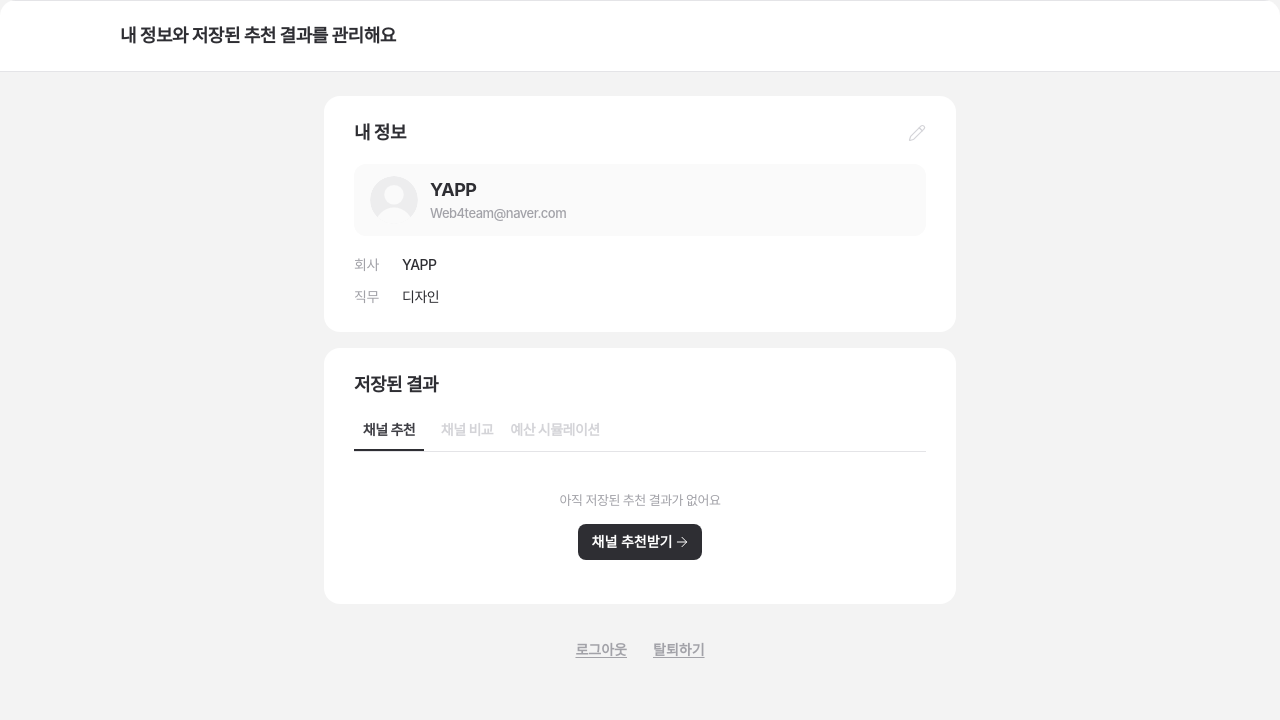
it: MyPage › opens and closes the logout confirmation modal
This screenshot has width=1280, height=720.
Click the button "로그아웃" at (601,650), box [576,640,627,660]
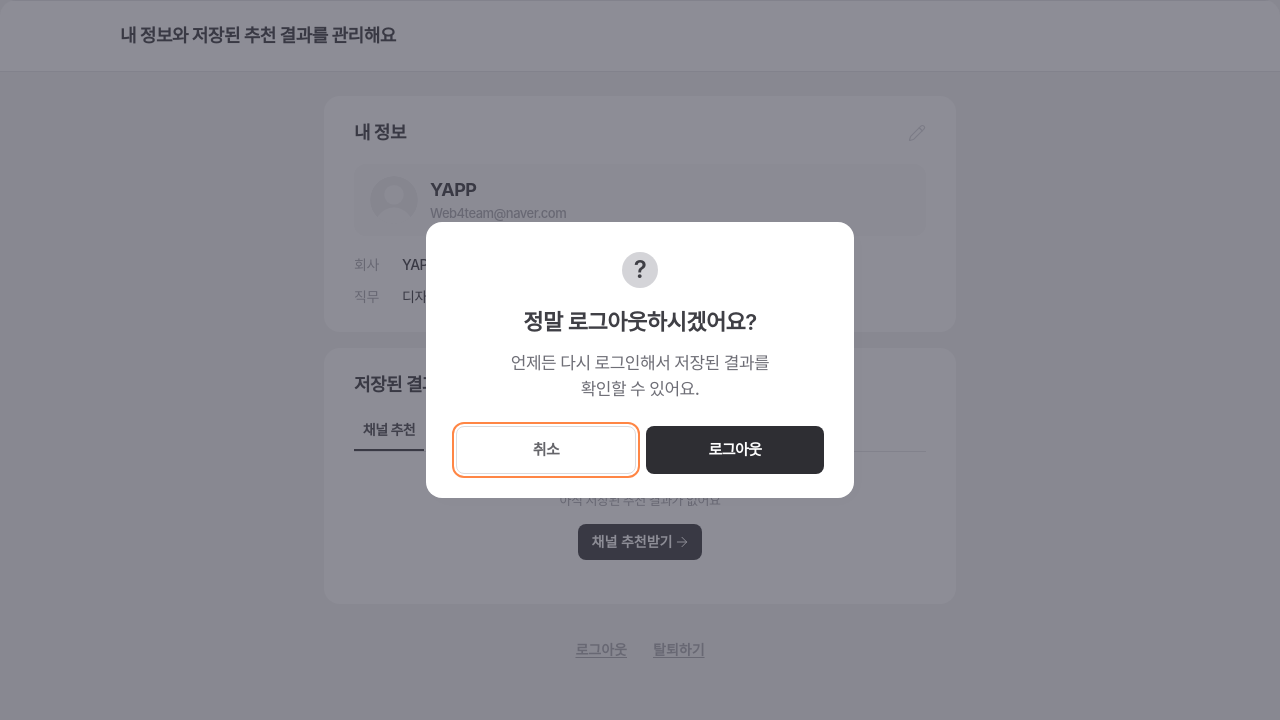
Expected: the dialog "정말 로그아웃하시겠어요?" is shown, [426,222,854,498]
Expected: the dialog "정말 로그아웃하시겠어요?" shows "언제든 다시 로그인해서 저장된 결과를", [511,353,769,373]
Click the button "취소" at (546,450), box [456,426,636,474]
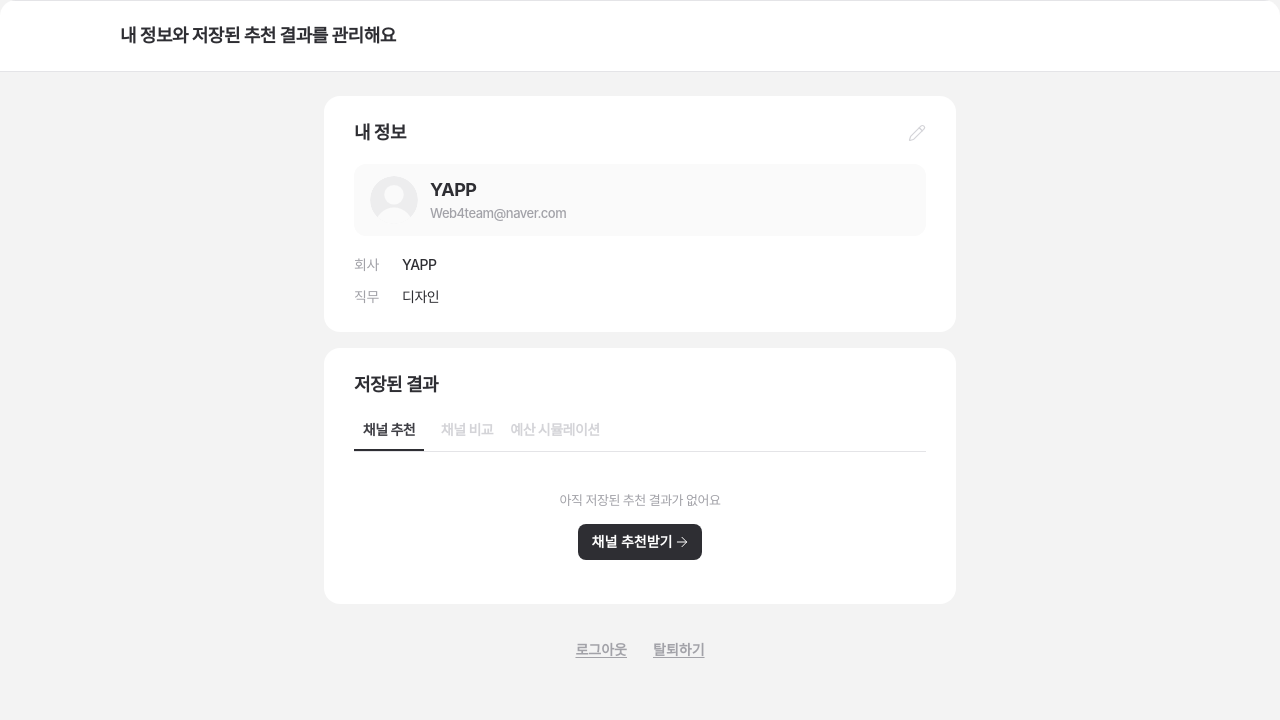
Expected: the text "정말 로그아웃하시겠어요?" is gone
